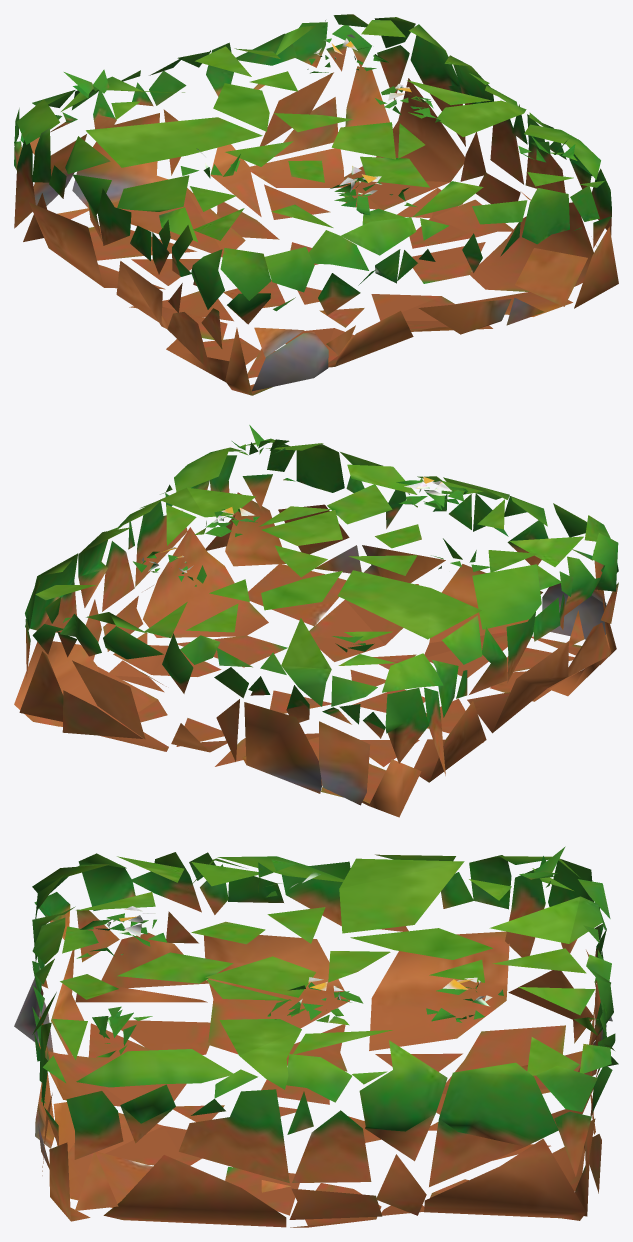
The model's file is grass.glb.
The picture shows the model from 3 angles, top to bottom: view 1: azimuth 30°, elevation 25°; view 2: azimuth 150°, elevation 25°; view 3: azimuth 270°, elevation 25°; orthographic projection. The views are drawn at different scales.
Parts seen in each view (by area): view 1: Mesh_0; view 2: Mesh_0; view 3: Mesh_0.
Boxes of the visible parts, left/top/right/bottom form: Mesh_0: left=14, top=14, right=618, bottom=395; Mesh_0: left=14, top=425, right=618, bottom=817; Mesh_0: left=14, top=846, right=618, bottom=1227.
Size of the model in its own units: 1.81 by 0.6908 by 1.9.
Materials: 1 (1 with a texture image).
